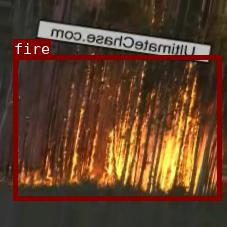fire: (13, 54, 221, 199)
